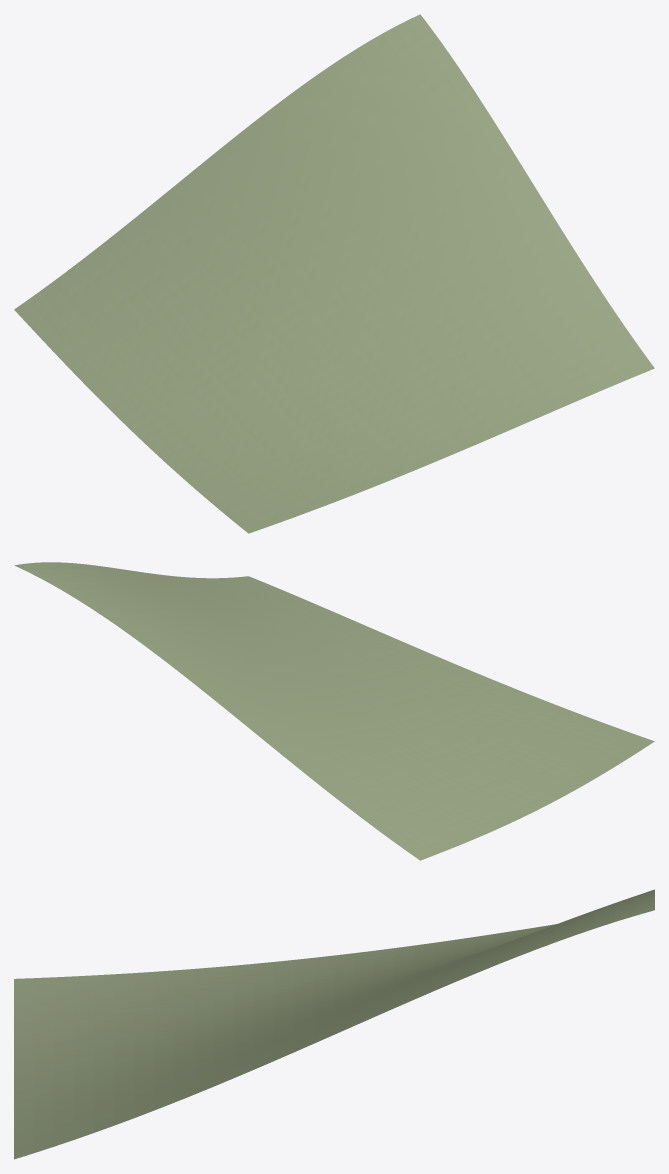
File: expanse-22-29.glb
3 renders of one model, top to bottom at view 1: azimuth 30°, elevation 25°; view 2: azimuth 150°, elevation 25°; view 3: azimuth 270°, elevation 25°, orthographic. The views are drawn at different scales.
Parts seen in each view (by area): view 1: expanse-22-29; view 2: expanse-22-29; view 3: expanse-22-29.
Part boxes in pixels (bbox=[...]): expanse-22-29: bbox=[14, 14, 654, 533]; expanse-22-29: bbox=[14, 562, 654, 860]; expanse-22-29: bbox=[14, 889, 654, 1159].
Bounding box in the file's own units: 256 × 150 × 256.
